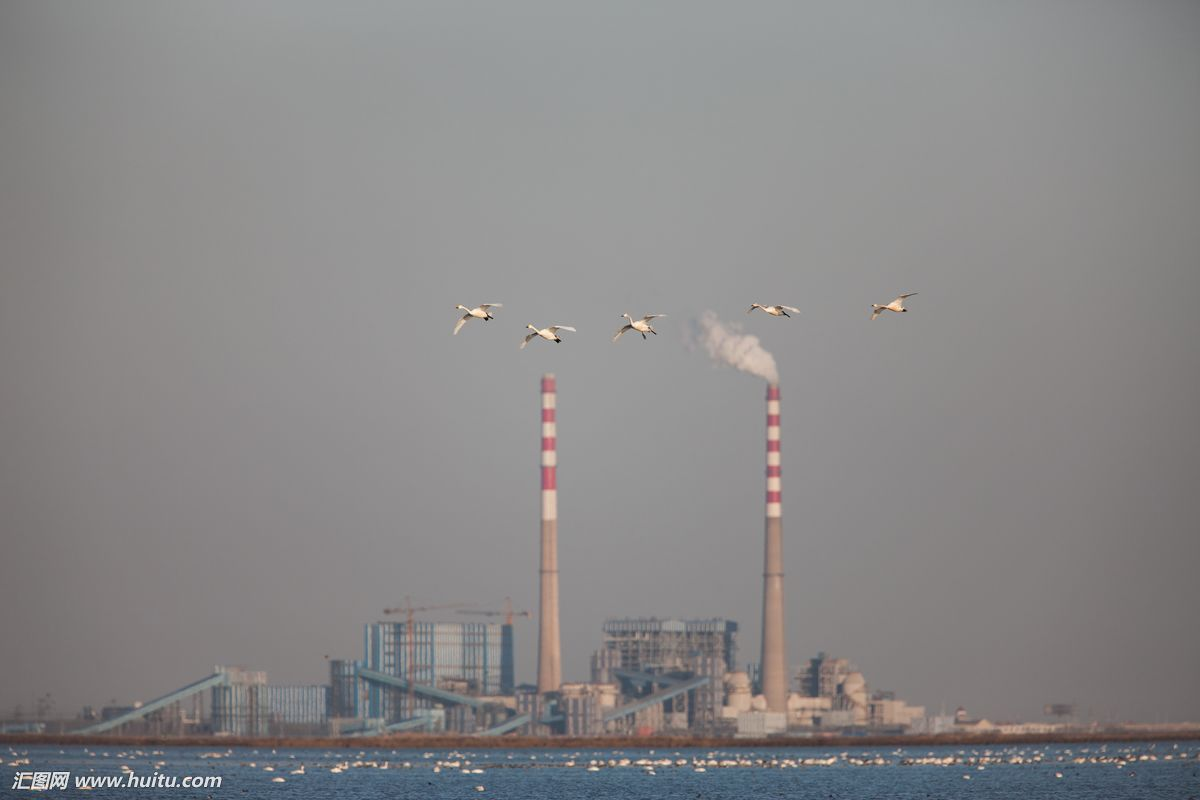dust: (682, 293, 793, 397)
